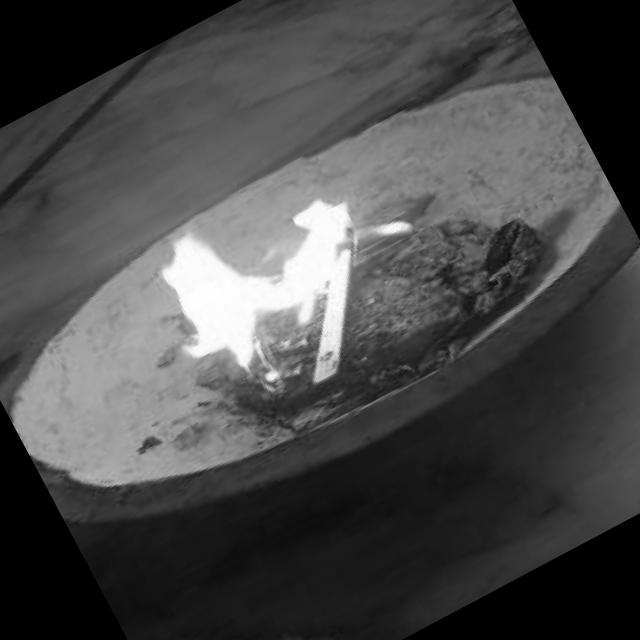fire: (86, 105, 453, 433)
